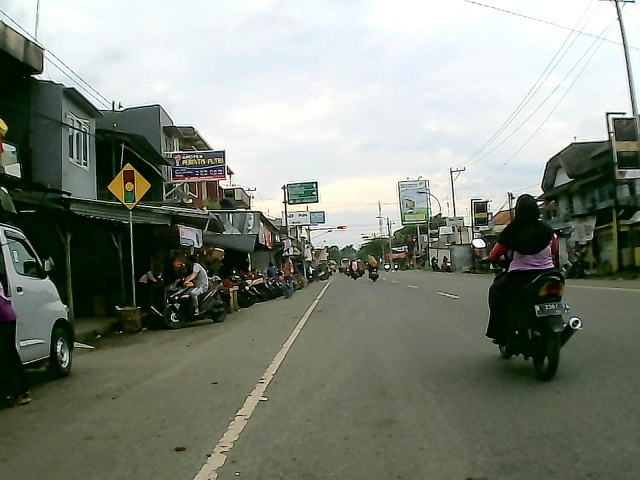Lampu isyarat: (105, 161, 154, 214)
